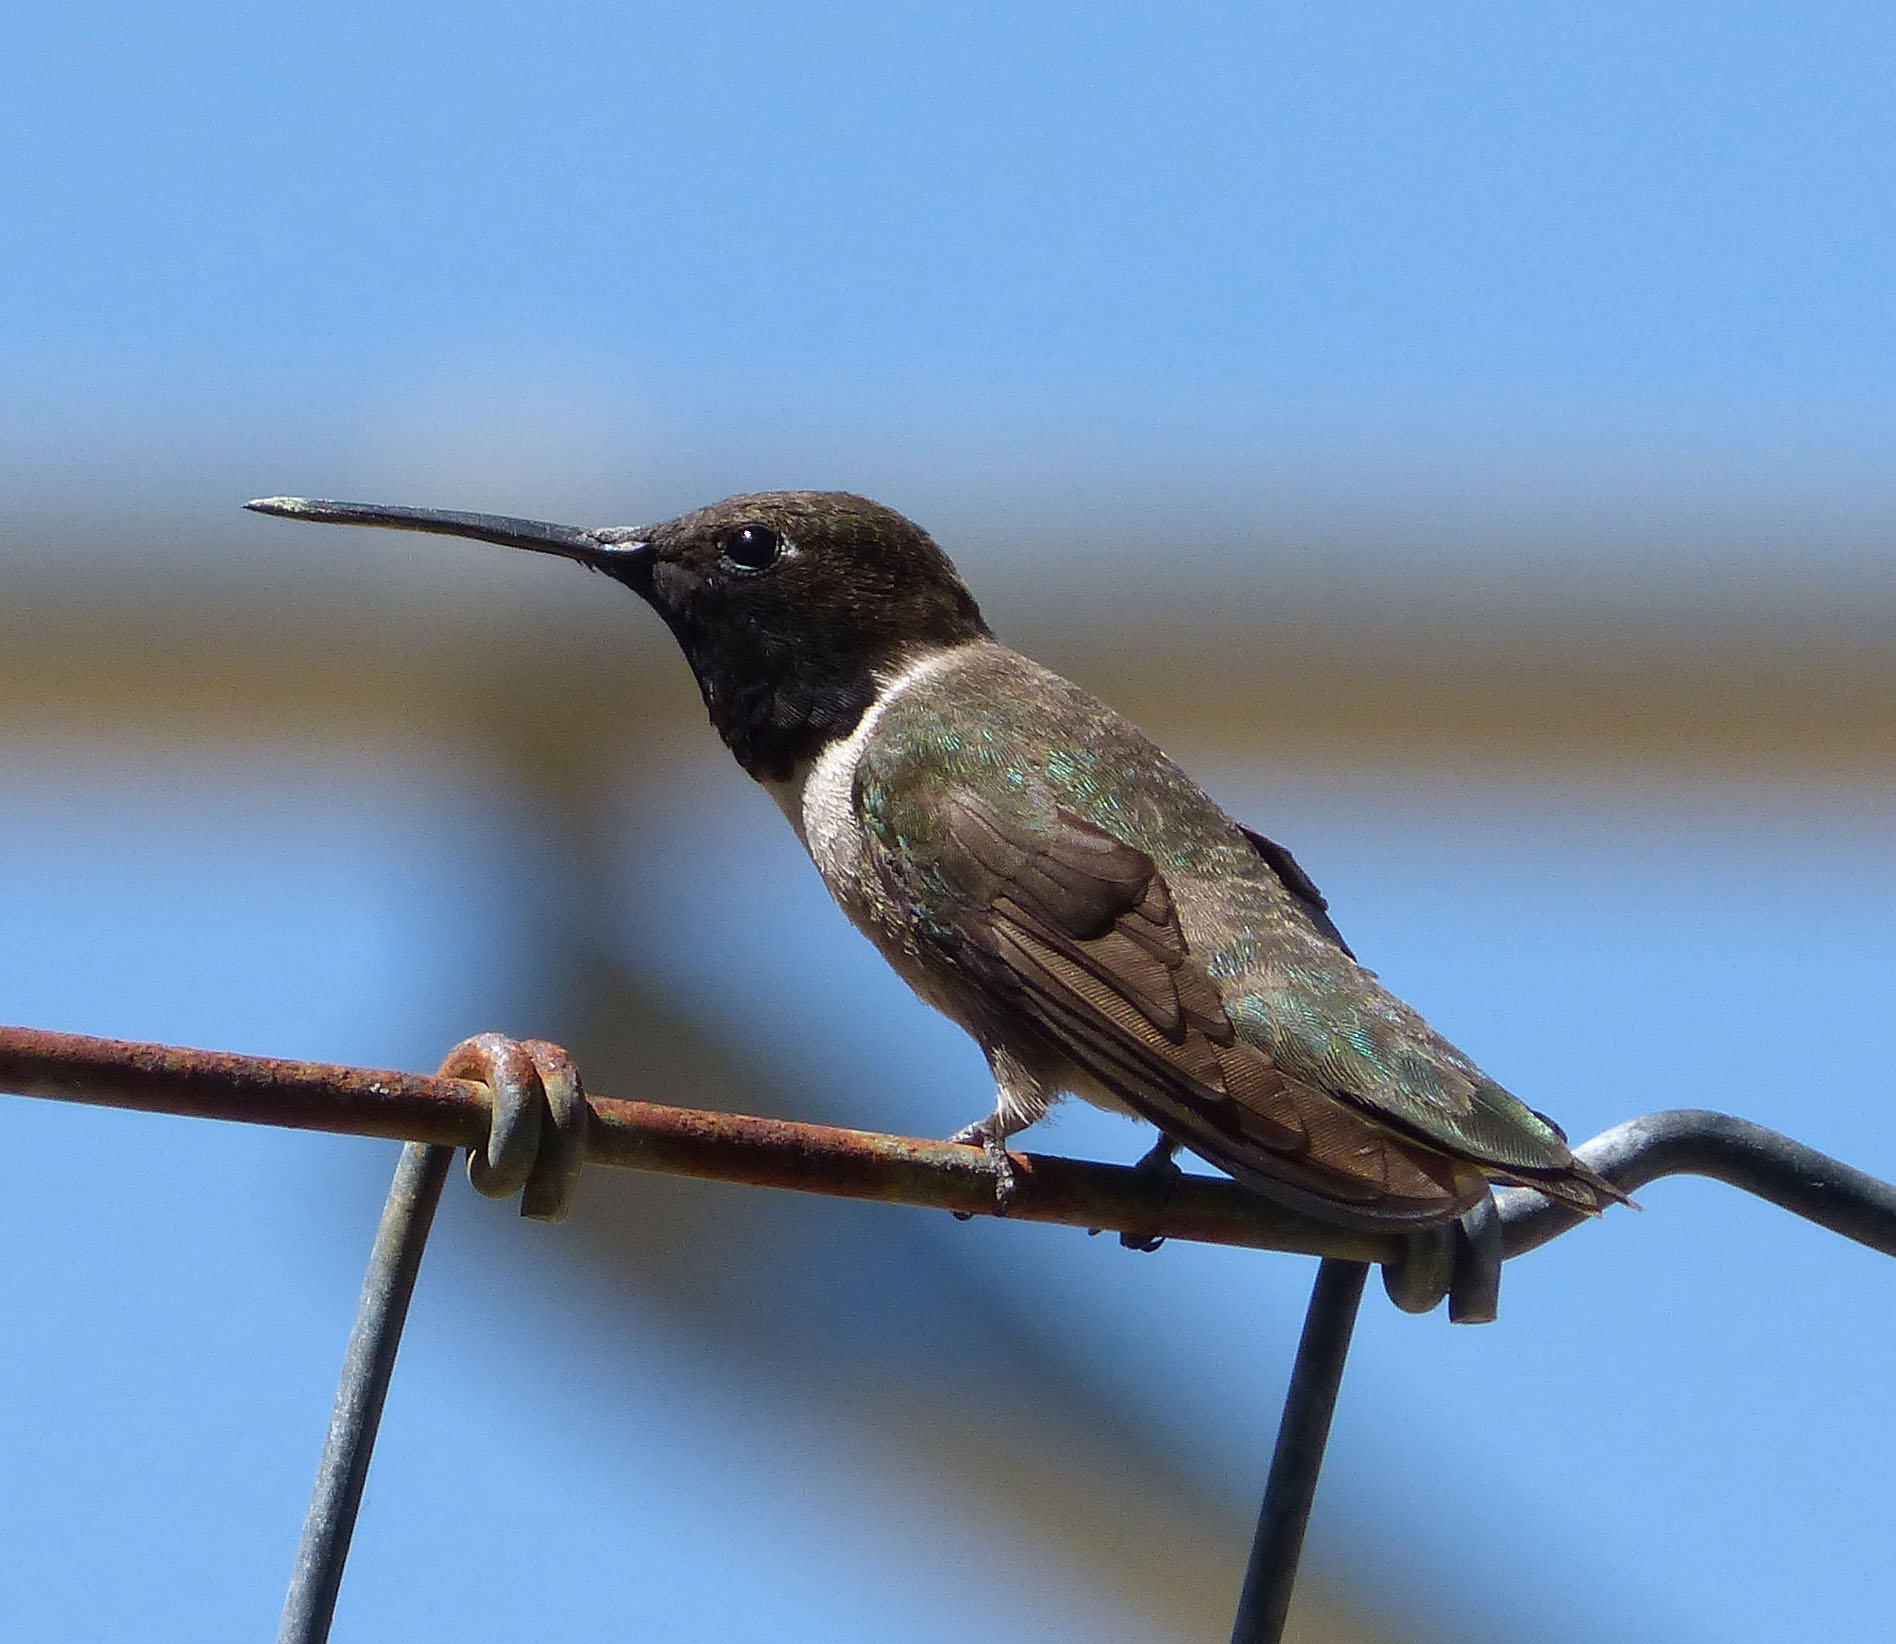archilochus alexandri: (240, 472, 1643, 1257)
